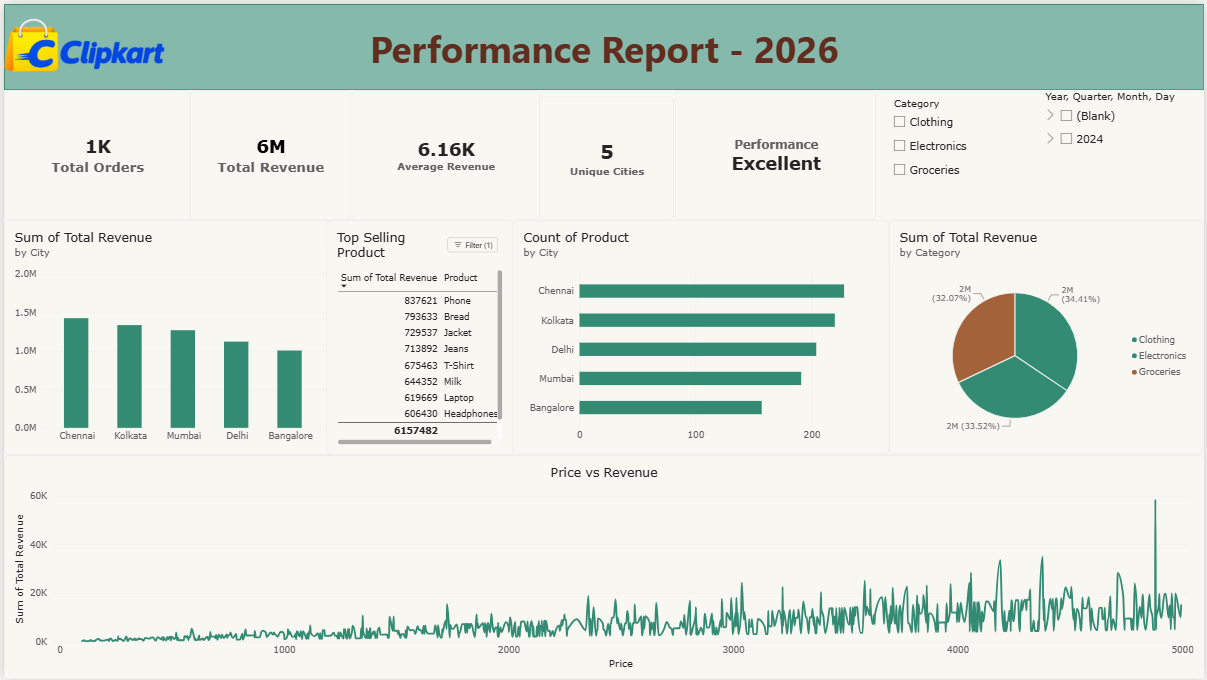

Layout of this report page (visuals, bound fields, positions):
{"tool":"powerbi","page":{"name":"Page 1","canvas":[1920,1080],"ordinal":0},"visuals":[{"type":"shape","box":[0,0,1920.4,137.9],"z":0},{"type":"image","box":[0,0,257.3,137.9],"z":1000},{"type":"cardVisual","fields":{"Data":["clipkart_ecommerce_data.Total Orders"]},"box":[0,137.3,298.9,208.1],"z":2000},{"type":"cardVisual","fields":{"Data":["Sum(clipkart_ecommerce_data.Revenue)"]},"box":[298.9,137.3,256.8,208.1],"z":3000},{"type":"lineChart","title":"Price  vs Revenue","fields":{"Category":["clipkart_ecommerce_data.Price"],"Y":["Sum(clipkart_ecommerce_data.Revenue)"]},"box":[0,721.8,1920.4,358.1],"z":4000},{"type":"columnChart","fields":{"Category":["clipkart_ecommerce_data.City"],"Y":["Sum(clipkart_ecommerce_data.Revenue)"]},"box":[0,345.4,531.4,376.4],"z":5000},{"type":"tableEx","title":"Top Selling Product","fields":{"Values":["Sum(clipkart_ecommerce_data.Revenue)","clipkart_ecommerce_data.Product"]},"box":[515.9,345.4,298.9,376.4],"z":6000},{"type":"cardVisual","fields":{"Data":["clipkart_ecommerce_data.Average Revenue"]},"box":[555.7,137.3,301.1,208.1],"z":7000},{"type":"cardVisual","fields":{"Data":["clipkart_ecommerce_data.Performance"]},"box":[1073.8,137.3,321,208.1],"z":8000},{"type":"slicer","fields":{"Values":["clipkart_ecommerce_data.Date.Variation.Date Hierarchy.Year","clipkart_ecommerce_data.Date.Variation.Date Hierarchy.Quarter","clipkart_ecommerce_data.Date.Variation.Date Hierarchy.Month","clipkart_ecommerce_data.Date.Variation.Date Hierarchy.Day"]},"box":[1658.3,137.3,261.3,208.1],"z":8001},{"type":"slicer","fields":{"Values":["clipkart_ecommerce_data.Category"]},"box":[1417,148.3,241.3,197],"z":8002},{"type":"barChart","fields":{"Category":["clipkart_ecommerce_data.City"],"Y":["CountNonNull(clipkart_ecommerce_data.Product)"]},"box":[814.8,345.4,602.2,374.2],"z":8003},{"type":"cardVisual","fields":{"Data":["clipkart_ecommerce_data.Unique Cities"]},"box":[856.8,148.3,217,197],"z":8004},{"type":"pieChart","fields":{"Category":["clipkart_ecommerce_data.Category"],"Y":["Sum(clipkart_ecommerce_data.Total Revenue)"]},"box":[1417,345.4,502.6,374.2],"z":8005}]}

Visuals, with their boxes in screenshot pixels (x1, y1, x2, y2), scaled from the page's 1920x1080 canvas onto the 1207x680 screenshot:
shape: l=0, t=0, r=1206, b=87
image: l=0, t=0, r=162, b=87
cardVisual - clipkart_ecommerce_data.Total Orders: l=0, t=86, r=188, b=217
cardVisual - Sum(clipkart_ecommerce_data.Revenue): l=188, t=86, r=349, b=217
"Price  vs Revenue" lineChart: l=0, t=454, r=1206, b=679
columnChart - clipkart_ecommerce_data.City x Sum(clipkart_ecommerce_data.Revenue): l=0, t=217, r=334, b=454
"Top Selling Product" tableEx: l=324, t=217, r=512, b=454
cardVisual - clipkart_ecommerce_data.Average Revenue: l=349, t=86, r=539, b=217
cardVisual - clipkart_ecommerce_data.Performance: l=675, t=86, r=877, b=217
slicer - clipkart_ecommerce_data.Date.Variation.Date Hierarchy.Year x clipkart_ecommerce_data.Date.Variation.Date Hierarchy.Quarter: l=1042, t=86, r=1206, b=217
slicer - clipkart_ecommerce_data.Category: l=891, t=93, r=1042, b=217
barChart - clipkart_ecommerce_data.City x CountNonNull(clipkart_ecommerce_data.Product): l=512, t=217, r=891, b=453
cardVisual - clipkart_ecommerce_data.Unique Cities: l=539, t=93, r=675, b=217
pieChart - clipkart_ecommerce_data.Category x Sum(clipkart_ecommerce_data.Total Revenue): l=891, t=217, r=1206, b=453
